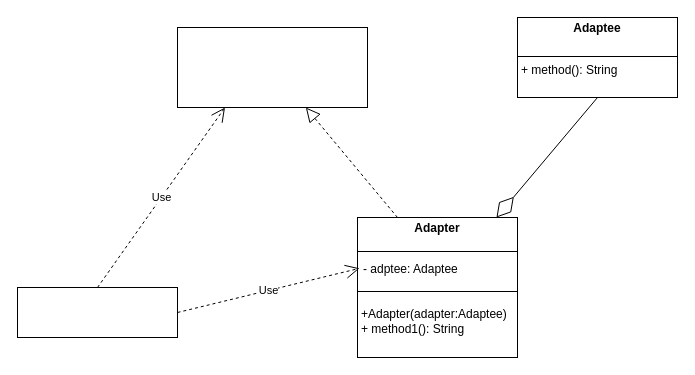
This 695x375 diagram has some shape labels left out. The shapes that lost their labels are listed below. From the top down, each one's centre as x and y in pixels, then its label:
At (272,67): "<<Interface>> ITarget + method1(): String".
At (97,312): "Client".
